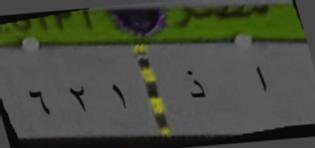1: (108, 78, 129, 112)
2: (62, 81, 91, 115)
6: (24, 85, 54, 121)
alif: (250, 61, 270, 97)
zaal: (178, 67, 210, 103)
